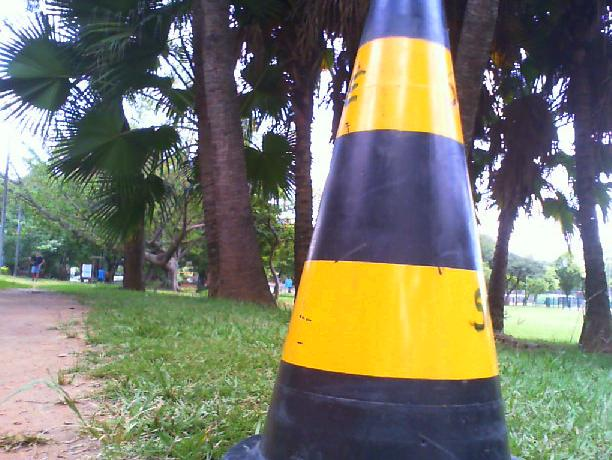0 cone: (194, 0, 533, 460)
